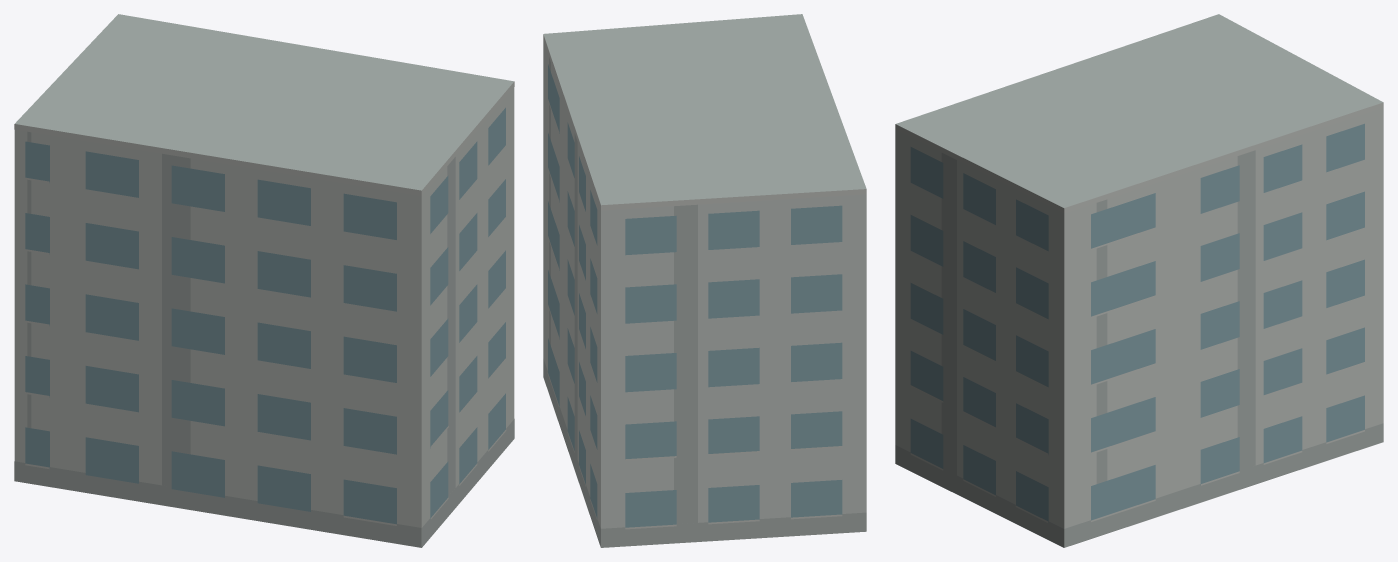
File: survey-upis-32729614.glb
3 renders of one model, left to right at view 1: azimuth 30°, elevation 25°; view 2: azimuth 150°, elevation 25°; view 3: azimuth 270°, elevation 25°, orthographic. The views are drawn at different scales.
Visible parts, largest first — view 1: survey-upis-32729614.tmp; view 2: survey-upis-32729614.tmp; view 3: survey-upis-32729614.tmp.
Boxes of the visible parts, x1,y1,x2,y2 form: survey-upis-32729614.tmp: (14, 14, 514, 547); survey-upis-32729614.tmp: (543, 14, 866, 547); survey-upis-32729614.tmp: (895, 14, 1383, 547).
Size of the model in its own units: 18.76 by 15.3 by 19.94.
